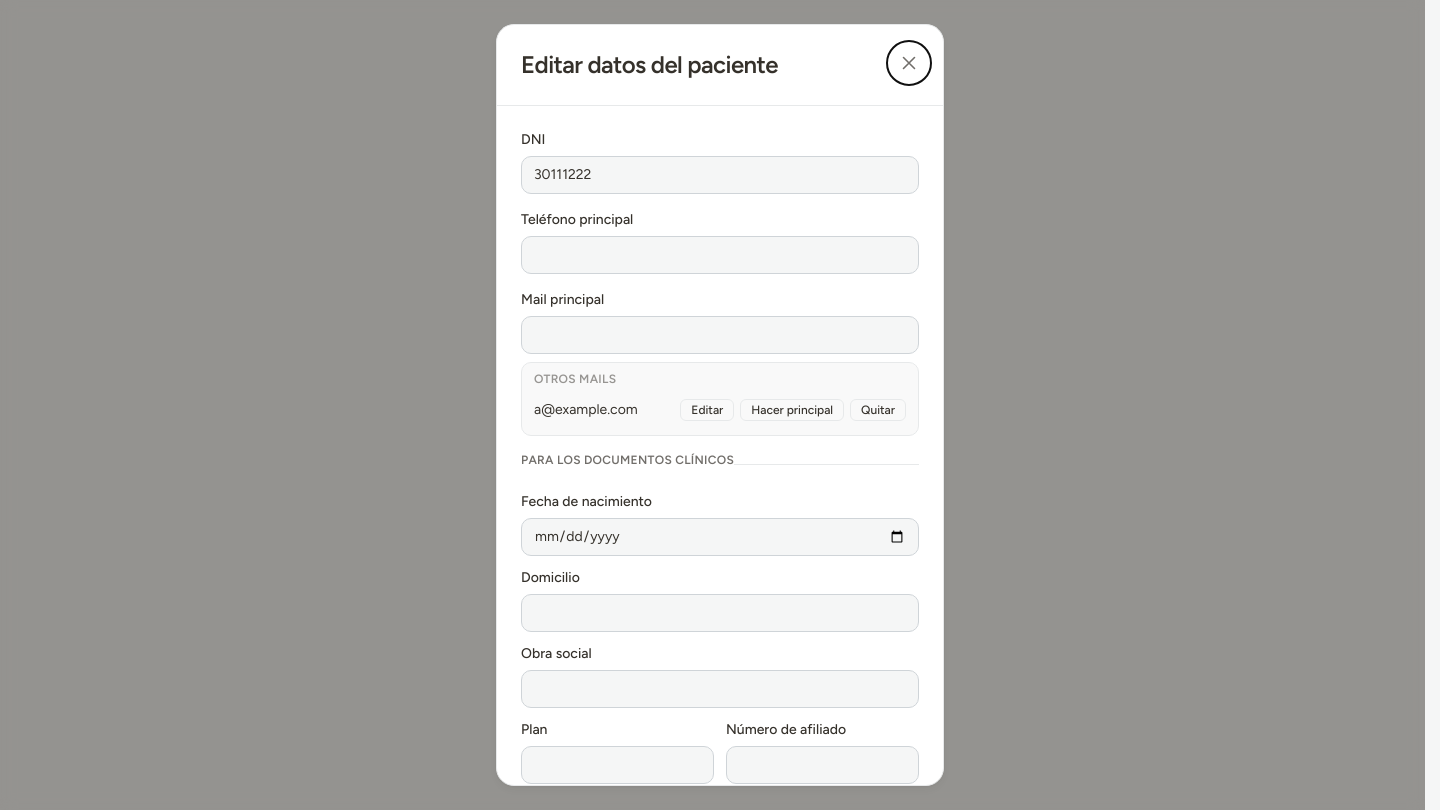
EditarPacienteModal › con otros mails, exige un principal
Clear the field labelled "Mail principal" at (720, 335), box top-left (521, 316), bottom-right (919, 354)
(page scrolled)
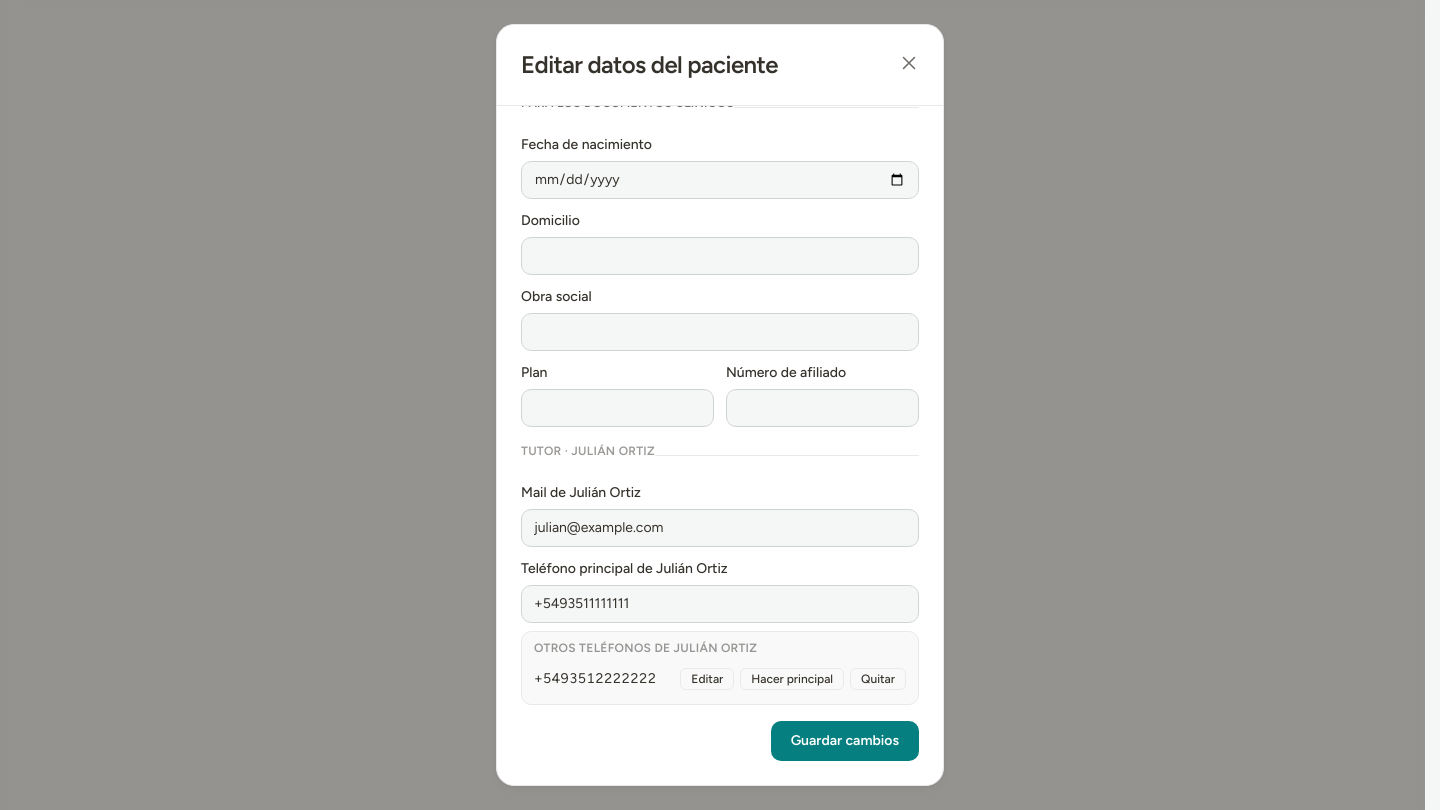
Click the button "Guardar cambios" at (845, 741), box top-left (771, 721), bottom-right (919, 761)
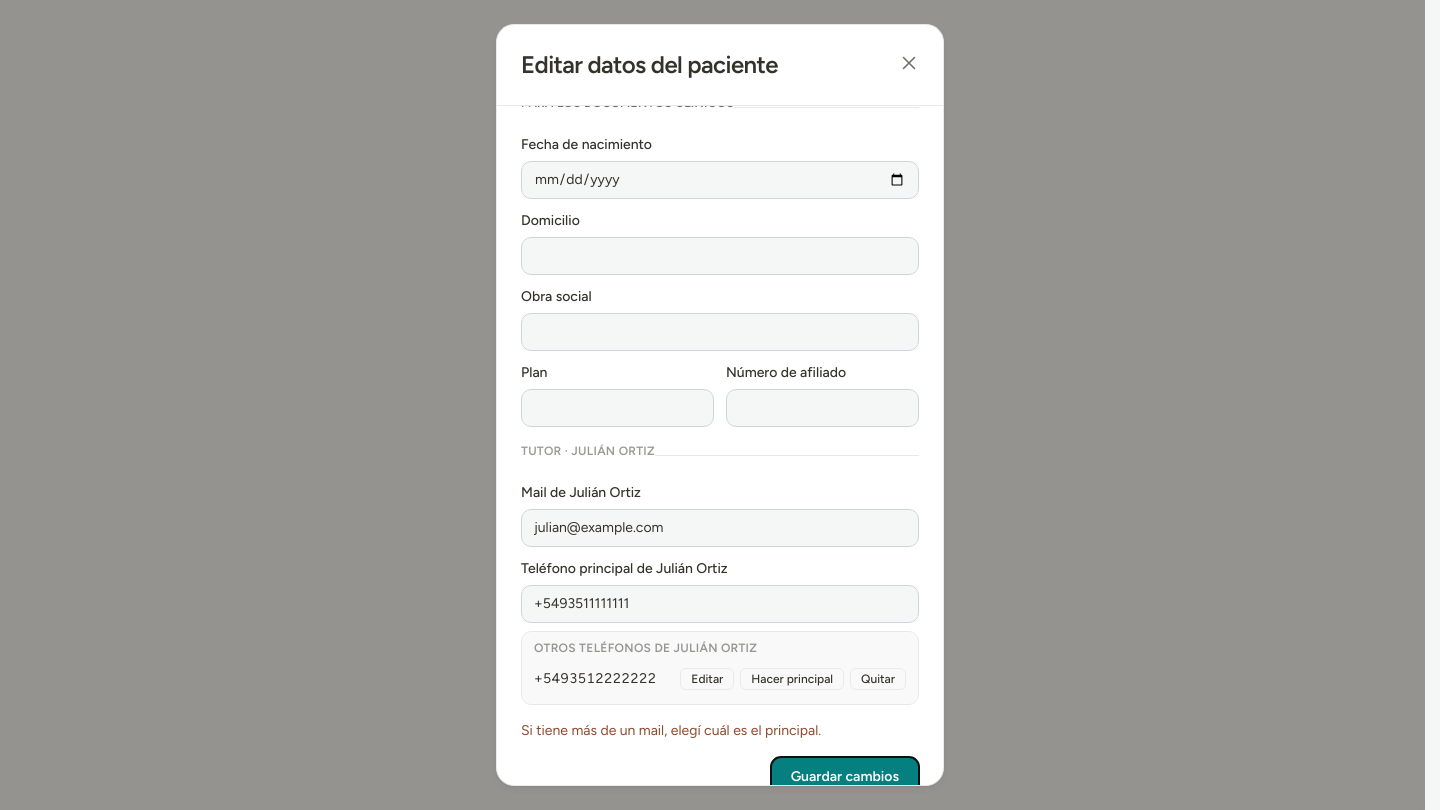
Now the message reads "Si tiene más de un mail, elegí cuál es el principal.", box top-left (521, 722), bottom-right (821, 739)
